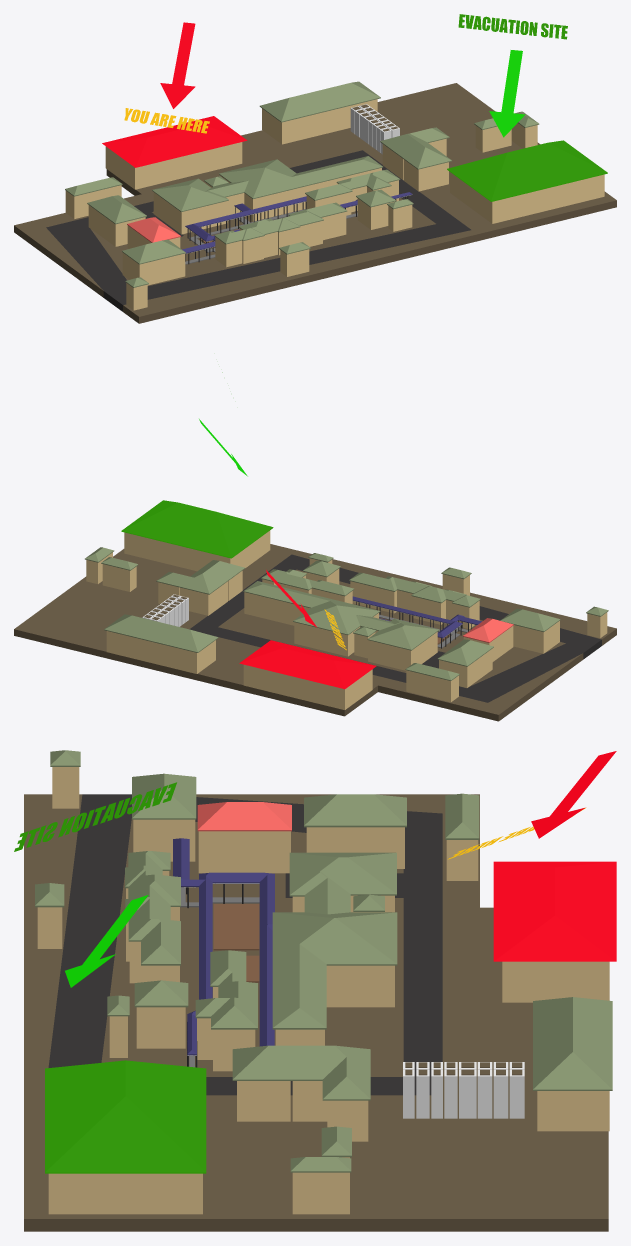
Rendered from ITALIANBUILDING.glb.
3 renders of one model, top to bottom at view 1: azimuth 30°, elevation 25°; view 2: azimuth 150°, elevation 25°; view 3: azimuth 270°, elevation 25°, orthographic. The views are drawn at different scales.
Visible parts, largest first — view 1: Toposolid Grassland - 1200mm [352516], Toposolid Grassland - 1200mm [354195], Basic Roof Generic - 125mm [387914], Basic Roof Generic - 125mm [384035], Basic Roof Generic - 125mm [378573], Basic Wall Generic - 200mm [355787], Basic Wall Generic - 200mm [355672], Basic Roof Generic - 125mm [385592], Basic Roof Generic - 125mm [385698], Basic Roof Generic - 125mm [387351], Basic Wall Generic - 200mm [355773], Basic Wall Generic - 200mm [357350] (+28 smaller); view 2: Toposolid Grassland - 1200mm [352516], Toposolid Grassland - 1200mm [354195], Basic Roof Generic - 125mm [387914], Basic Roof Generic - 125mm [384035], Basic Roof Generic - 125mm [378573], Basic Wall Generic - 200mm [355757], Basic Roof Generic - 125mm [385592], Basic Wall Generic - 200mm [355771], Basic Wall Generic - 200mm [355789], Basic Roof Generic - 125mm [385698], Basic Roof Generic - 125mm [387351], Basic Wall Generic - 200mm [357221] (+18 smaller); view 3: Toposolid Grassland - 1200mm [352516], Toposolid Grassland - 1200mm [354195], Basic Roof Generic - 125mm [387914], Basic Roof Generic - 125mm [384035], Basic Roof Generic - 125mm [378573], Toposolid Grassland - 1200mm [354195].001, Basic Roof Generic - 125mm [385592], Basic Wall Generic - 200mm [355788], Basic Roof Generic - 125mm [389243], Basic Roof Generic - 125mm [387351], Basic Roof Generic - 125mm [385698], Basic Wall Generic - 200mm [355719] (+32 smaller).
Boxes of the visible parts, x1,y1,x2,y2 form: Toposolid Grassland - 1200mm [352516]: (14,83,616,323); Toposolid Grassland - 1200mm [354195]: (46,150,470,311); Basic Roof Generic - 125mm [387914]: (447,140,607,201); Basic Roof Generic - 125mm [384035]: (152,156,382,211); Basic Roof Generic - 125mm [378573]: (102,116,247,167); Basic Wall Generic - 200mm [355787]: (493,174,604,223); Basic Wall Generic - 200mm [355672]: (136,142,242,189); Basic Roof Generic - 125mm [385592]: (259,81,380,122); Basic Roof Generic - 125mm [385698]: (214,202,347,244); Basic Roof Generic - 125mm [387351]: (380,127,451,169); Basic Wall Generic - 200mm [355773]: (283,99,377,144); Basic Wall Generic - 200mm [357350]: (252,168,380,221); Toposolid Grassland - 1200mm [352516]: (14,544,616,721); Toposolid Grassland - 1200mm [354195]: (189,554,601,702); Basic Roof Generic - 125mm [387914]: (121,500,273,558); Basic Roof Generic - 125mm [384035]: (243,581,439,650); Basic Roof Generic - 125mm [378573]: (239,640,376,689); Basic Wall Generic - 200mm [355757]: (244,665,343,709); Basic Roof Generic - 125mm [385592]: (104,614,218,652); Basic Wall Generic - 200mm [355771]: (107,631,197,673); Basic Wall Generic - 200mm [355789]: (125,532,230,571); Basic Roof Generic - 125mm [385698]: (349,572,480,607); Basic Roof Generic - 125mm [387351]: (156,560,245,594); Basic Wall Generic - 200mm [357221]: (244,592,310,625); Toposolid Grassland - 1200mm [352516]: (24,794,608,1231); Toposolid Grassland - 1200mm [354195]: (48,794,442,1095); Basic Roof Generic - 125mm [387914]: (45,1060,206,1173); Basic Roof Generic - 125mm [384035]: (272,852,397,1029); Basic Roof Generic - 125mm [378573]: (493,861,616,961); Toposolid Grassland - 1200mm [354195].001: (48,795,131,1067); Basic Roof Generic - 125mm [385592]: (533,997,612,1090); Basic Wall Generic - 200mm [355788]: (51,1173,202,1214); Basic Roof Generic - 125mm [389243]: (173,838,274,1055); Basic Roof Generic - 125mm [387351]: (232,1045,370,1100); Basic Roof Generic - 125mm [385698]: (125,851,180,965); Basic Wall Generic - 200mm [355719]: (504,961,609,1002).
Size of the model in its own units: 86 by 33.38 by 51.57.
